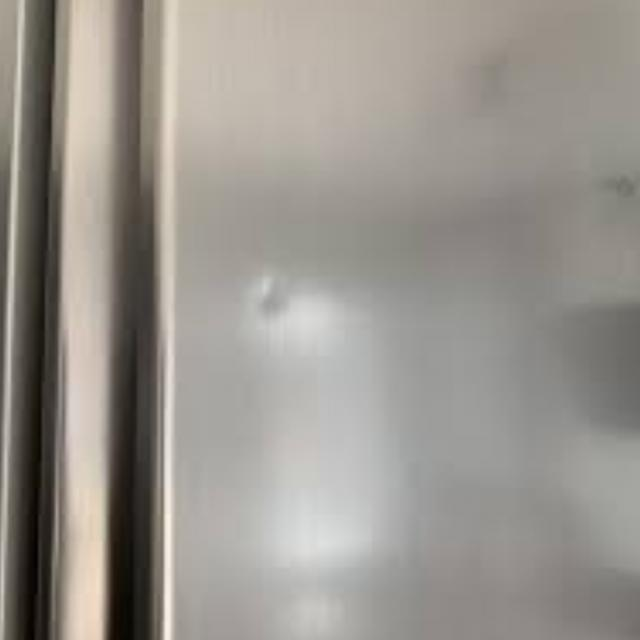dents: (202, 248, 350, 371)
